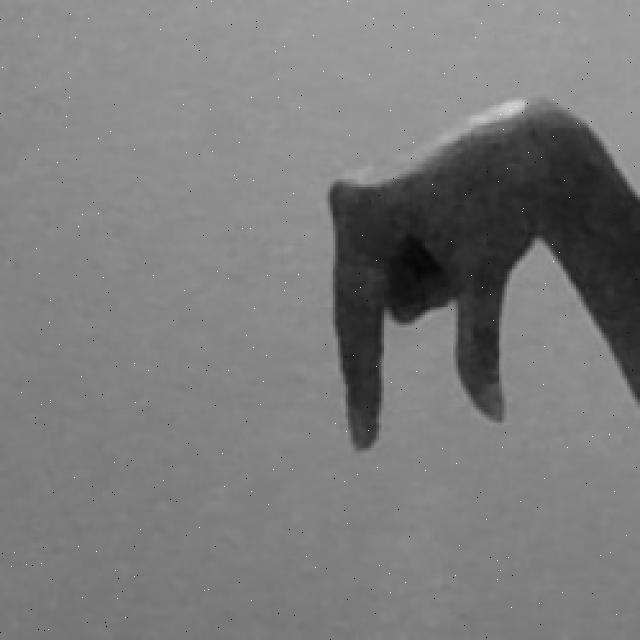Q: (317, 88, 640, 464)
